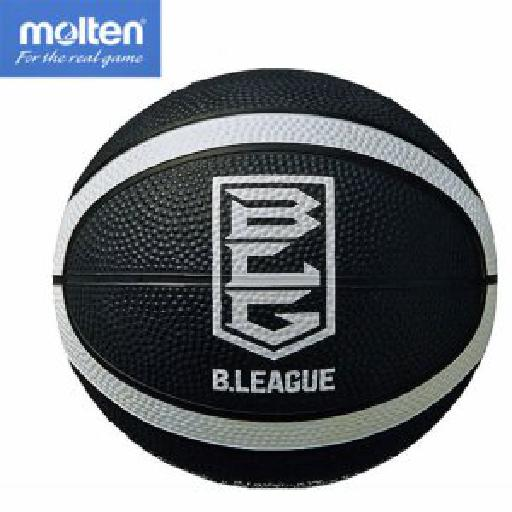ball: (53, 70, 498, 488)
